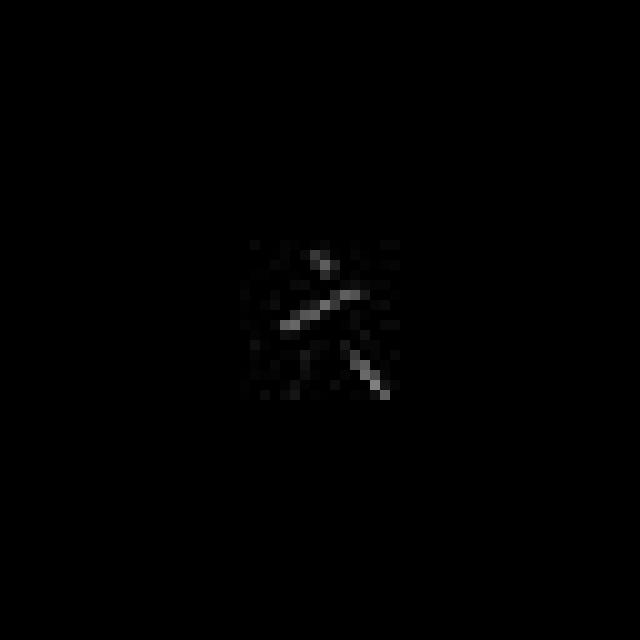6 -six-: (265, 249, 401, 418)
